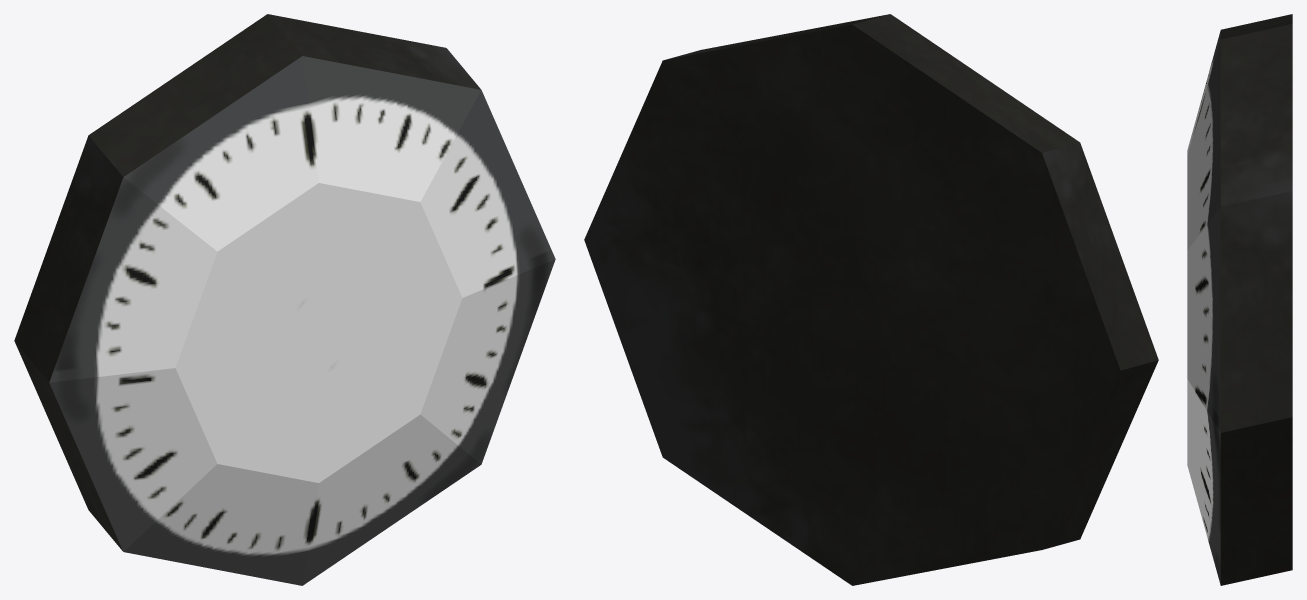
Rendered from Dial.obj.
3 renders of one model, left to right at view 1: azimuth 30°, elevation 25°; view 2: azimuth 150°, elevation 25°; view 3: azimuth 270°, elevation 25°, orthographic. The views are drawn at different scales.
Visible parts, largest first — view 1: Circle.005; view 2: Circle.005; view 3: Circle.005.
Boxes of the visible parts, x1,y1,x2,y2 form: Circle.005: (14, 14, 555, 585); Circle.005: (584, 14, 1158, 585); Circle.005: (1187, 14, 1292, 585).
Size of the model in its own units: 0.2803 by 0.2884 by 0.0498.
1 material, 1 textured.
